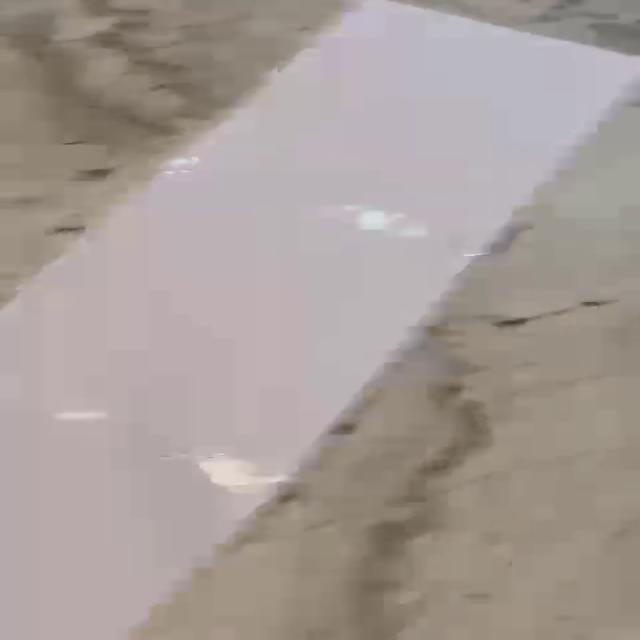road: (1, 0, 640, 640)
